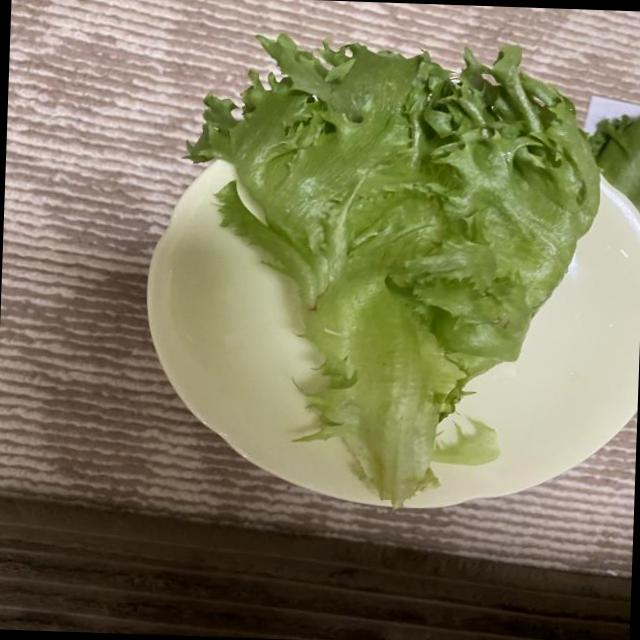Lettuce-Ready-to-Harvest: (188, 35, 640, 505)
